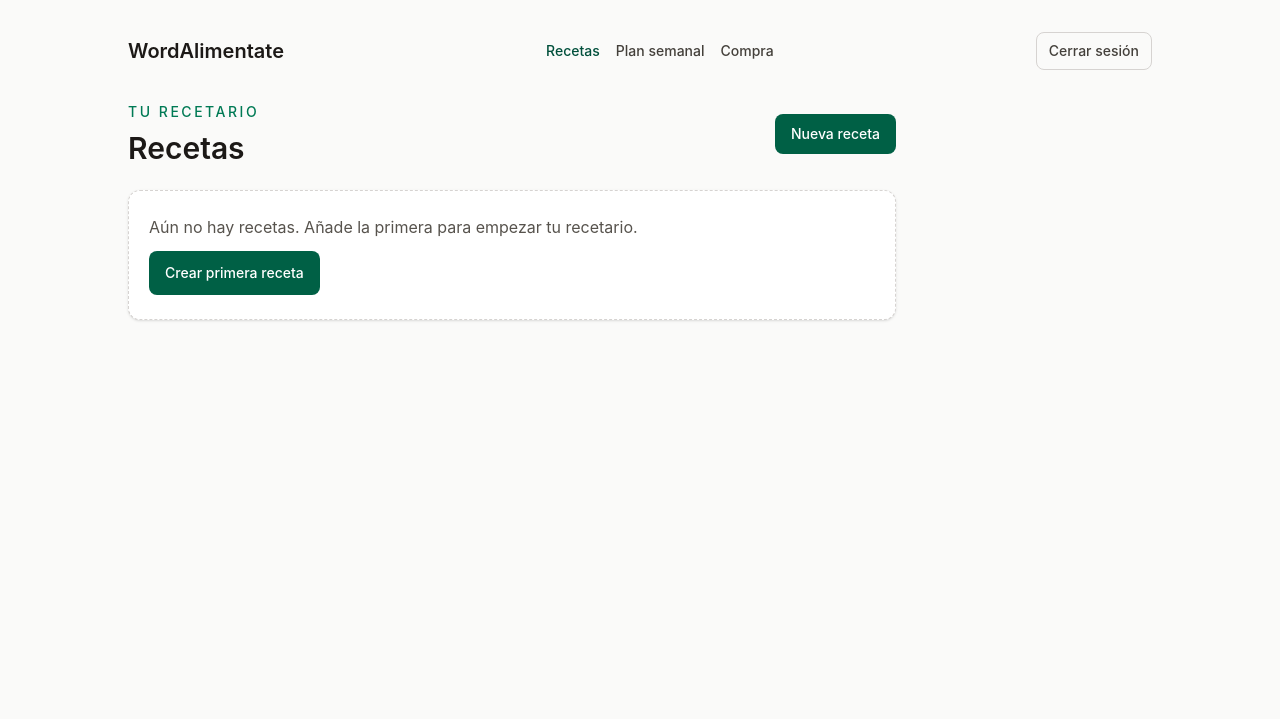
Test: navigation and empty states › guides the user from each empty view and marks the active navigation link
Expected: the text "Aún no hay recetas. Añade la primera para empezar tu recetario." is shown, [149, 215, 638, 239]
Click the link "Crear primera receta" at (234, 273), box [149, 251, 320, 295]
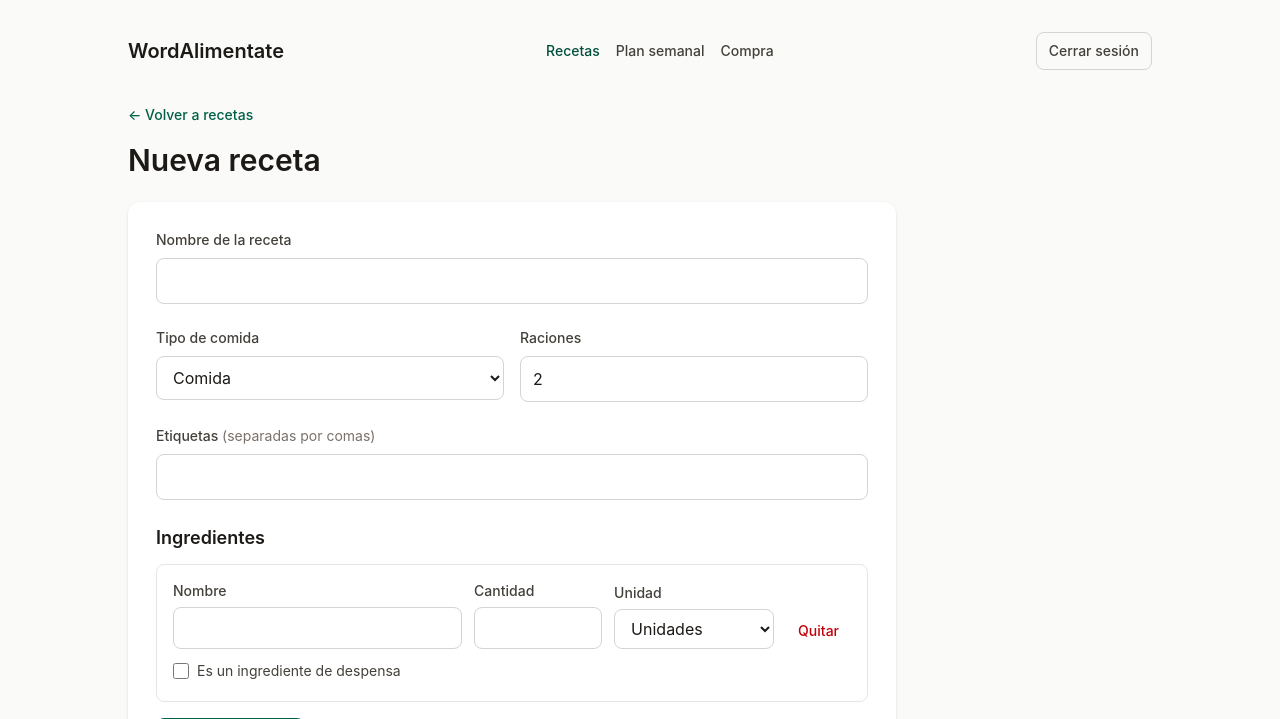
Expected: the heading "Nueva receta" is shown, [128, 142, 321, 178]
Click the link "Plan semanal" at (660, 51), box [616, 41, 704, 61]
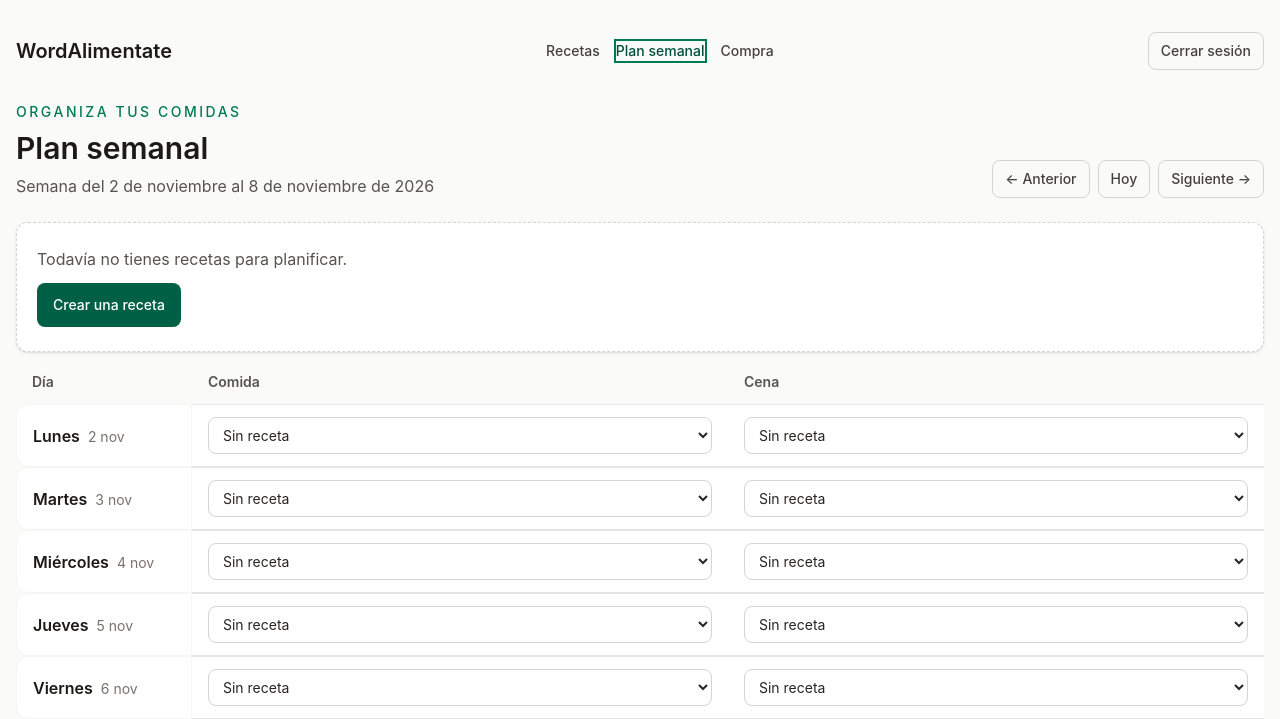
Expected: the text "Todavía no tienes recetas para planificar." is shown, [37, 247, 347, 271]
Click the link "Compra" at (747, 51), box [720, 41, 774, 61]
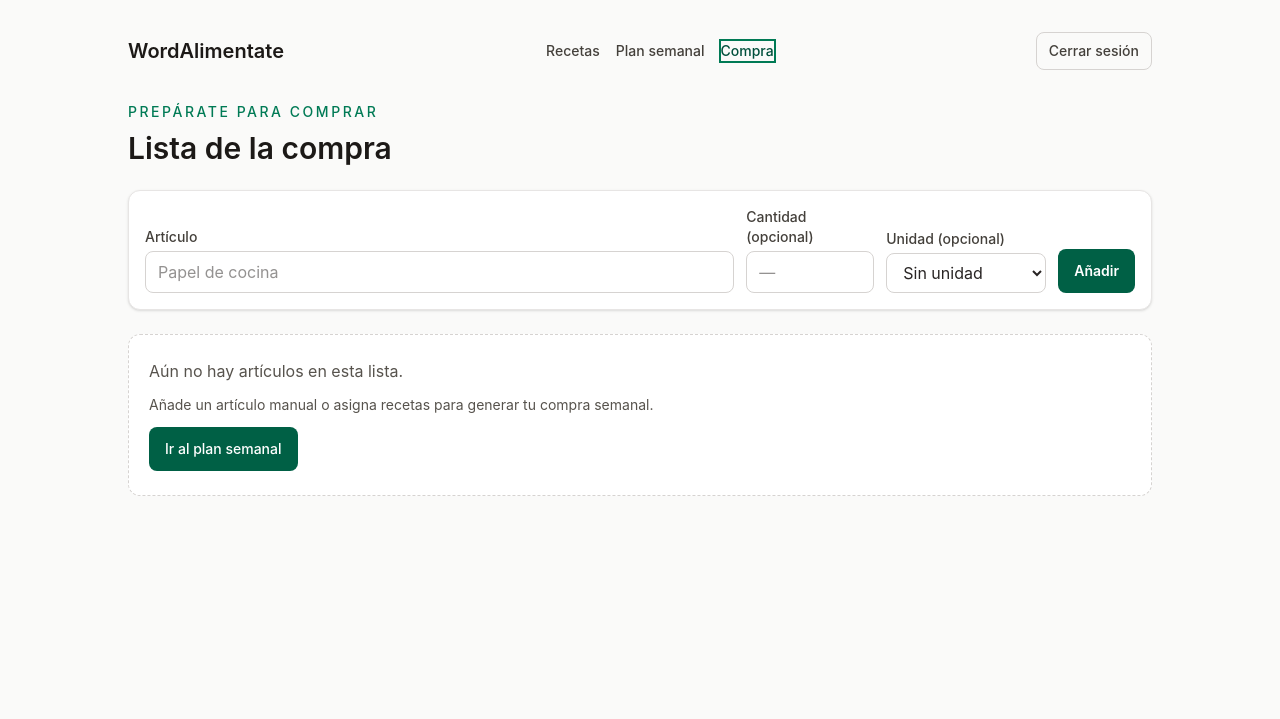
Expected: the text "Aún no hay artículos en esta lista." is shown, [149, 359, 403, 383]
